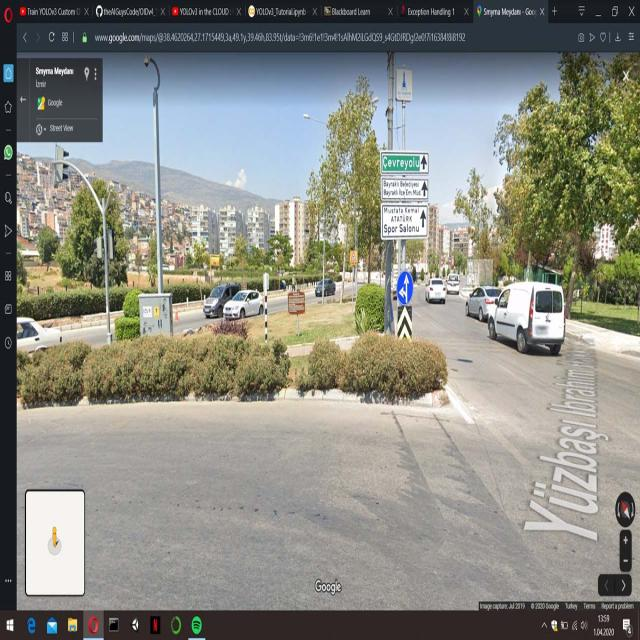ilerisol: (398, 269, 414, 304)
